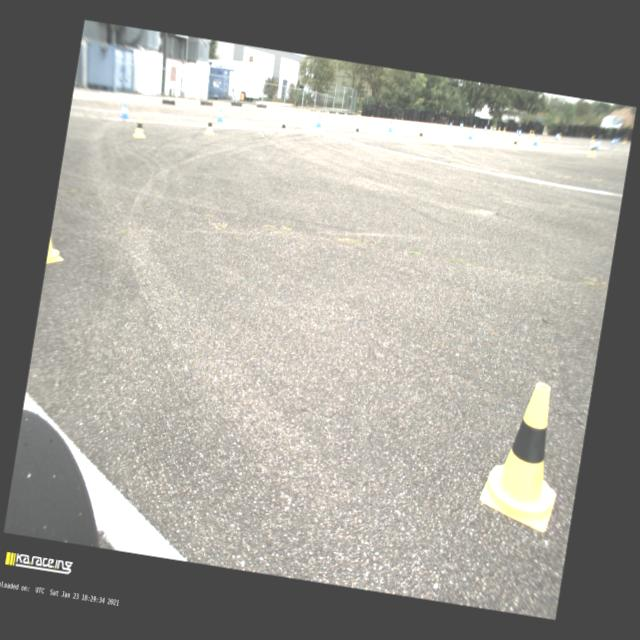blue_cone: (120, 103, 132, 119), (216, 108, 226, 122), (316, 115, 324, 128), (386, 120, 394, 132), (532, 134, 540, 146), (594, 140, 602, 150), (468, 128, 474, 140), (610, 138, 616, 146), (554, 133, 558, 141), (518, 130, 522, 137), (484, 125, 487, 132), (450, 121, 453, 127), (461, 123, 464, 129), (459, 122, 462, 128), (473, 124, 476, 130), (616, 138, 619, 144), (516, 129, 518, 134)
yellow_cone: (477, 377, 572, 533), (46, 236, 67, 266), (132, 114, 150, 140), (204, 116, 218, 136), (278, 118, 290, 136), (352, 123, 362, 139), (416, 128, 426, 144), (510, 136, 520, 151), (588, 143, 598, 157), (622, 137, 628, 145), (590, 136, 595, 144), (502, 127, 507, 134), (498, 126, 502, 134), (528, 130, 532, 137), (489, 126, 493, 132), (559, 132, 562, 140), (532, 130, 535, 137)
